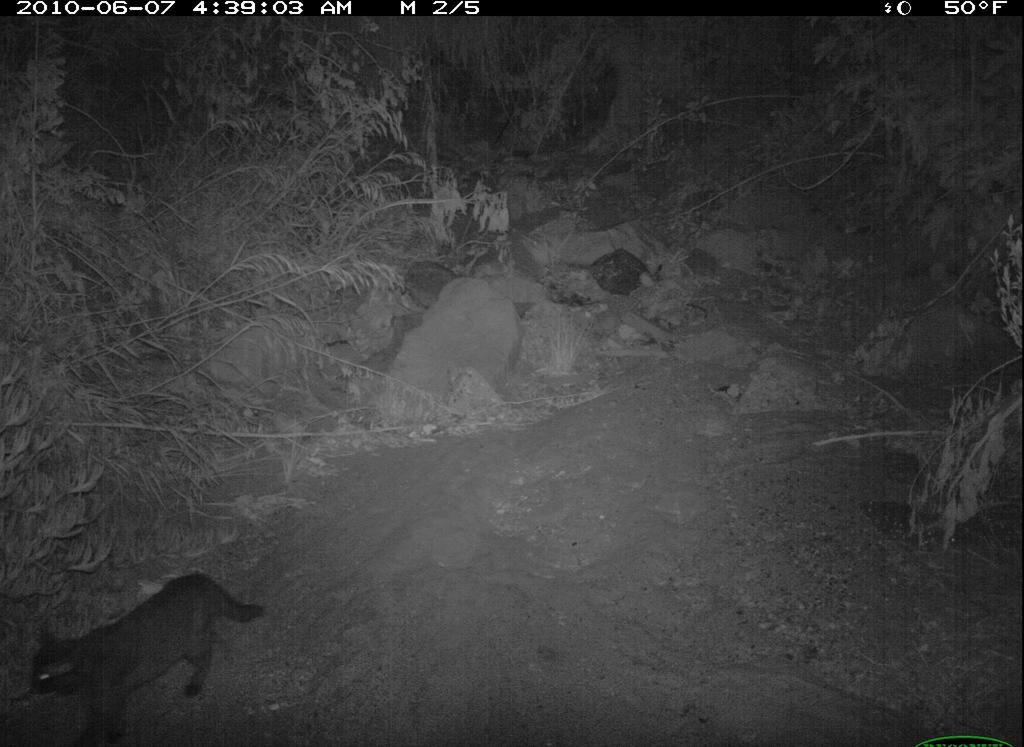cat: (24, 570, 278, 747)
